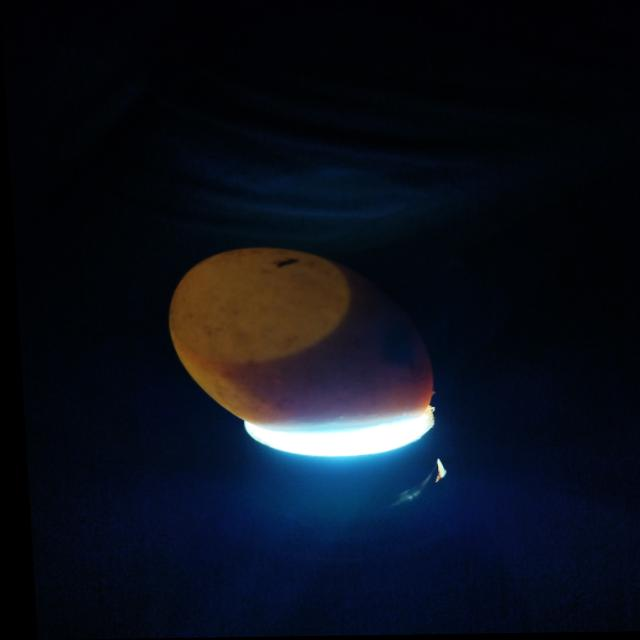Area Infectada: (214, 259, 424, 424)
